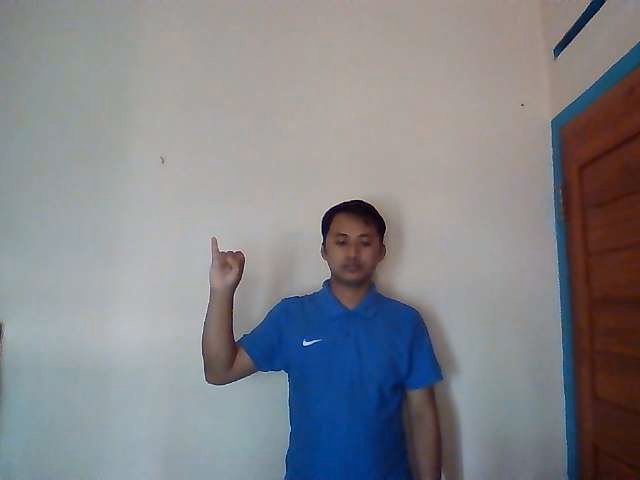I: (206, 236, 247, 295)
